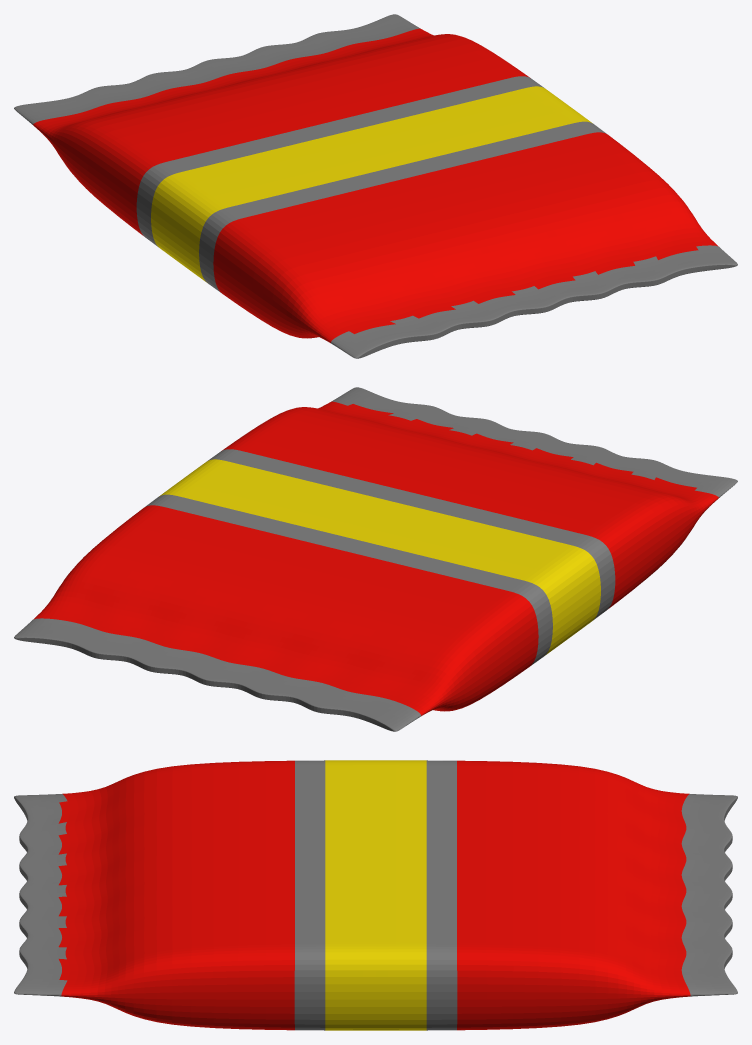
The model's file is snack.fbx.
3 views of the same model, one above another, from view 1: azimuth 30°, elevation 25°; view 2: azimuth 150°, elevation 25°; view 3: azimuth 270°, elevation 25° (orthographic). The views are drawn at different scales.
Visible parts, largest first — view 1: Cube; view 2: Cube; view 3: Cube.
Boxes of the visible parts, x1,y1,x2,y2 form: Cube: (14,14,737,358); Cube: (14,387,737,731); Cube: (14,760,737,1030).
Size of the model in its own units: 600 by 109 by 881.
